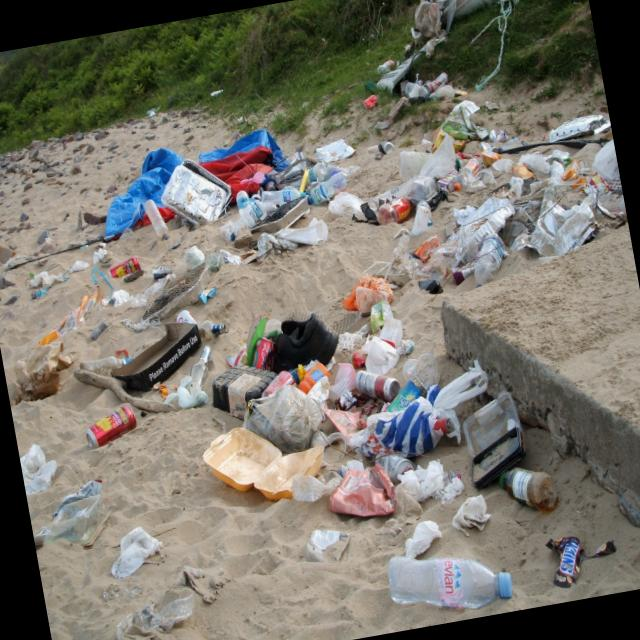garbage: (44, 30, 640, 640)
